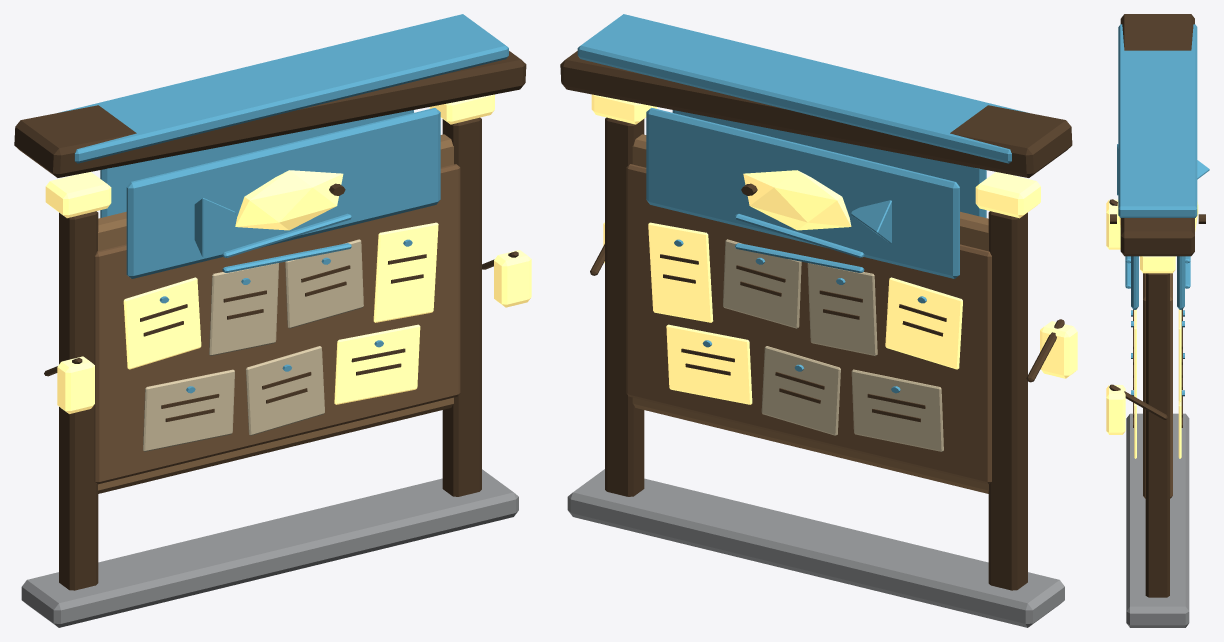
File: request_board_fishing.glb
3 views of the same model, side by side, from view 1: azimuth 30°, elevation 25°; view 2: azimuth 150°, elevation 25°; view 3: azimuth 270°, elevation 25° (orthographic). The views are drawn at different scales.
Bounding box in the file's own units: 6.6 × 6.43 × 1.44.
